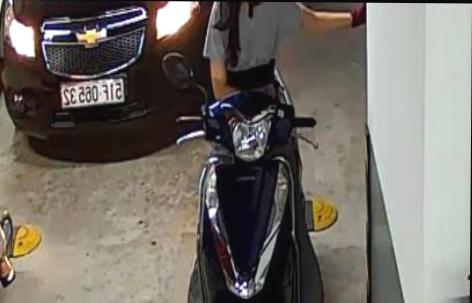License_Plate: (56, 73, 126, 109)
